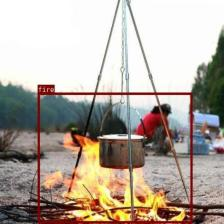fire: (38, 92, 192, 223)
